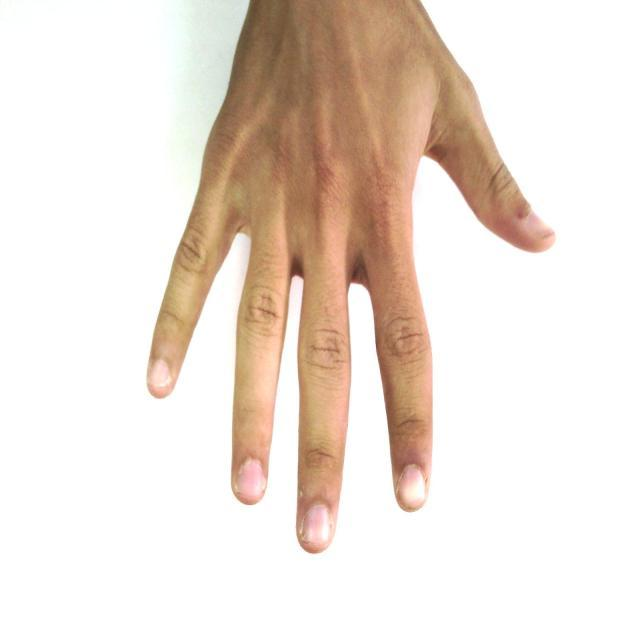Fingernail: (399, 465, 426, 509), (303, 504, 330, 544), (238, 459, 264, 498), (524, 214, 553, 238), (150, 360, 169, 386)
